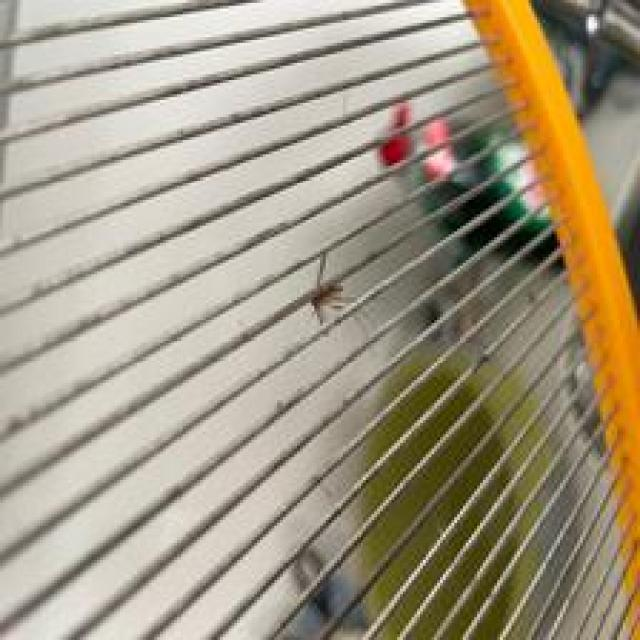Culex: (306, 248, 348, 326)
